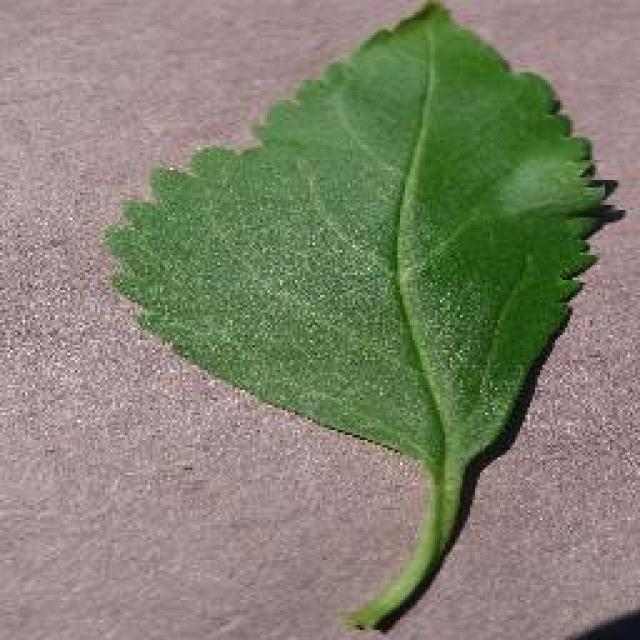Cherry___healthy: (85, 2, 633, 640)
